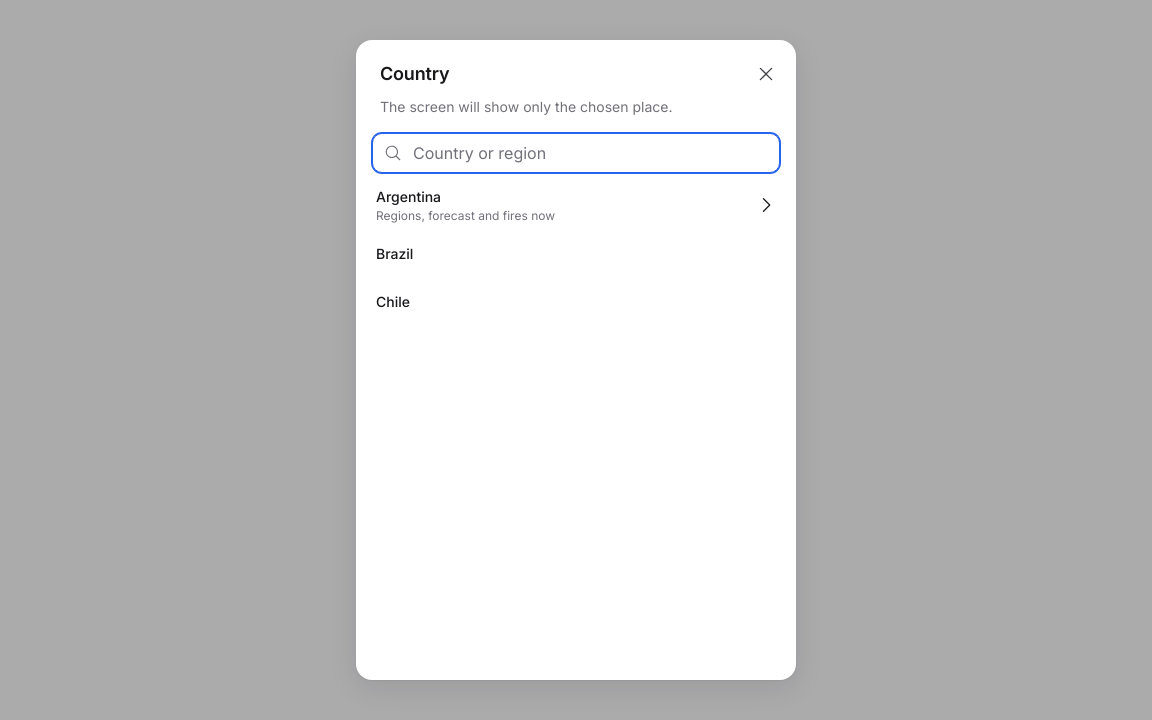
Test: RegionDialog › searches names in every language, without case and accents
The width and height of the screenshot is (1152, 720).
Type "бразил" into the search field labelled "Country or region" at (576, 153), box x1=372 y1=133 x2=780 y2=173
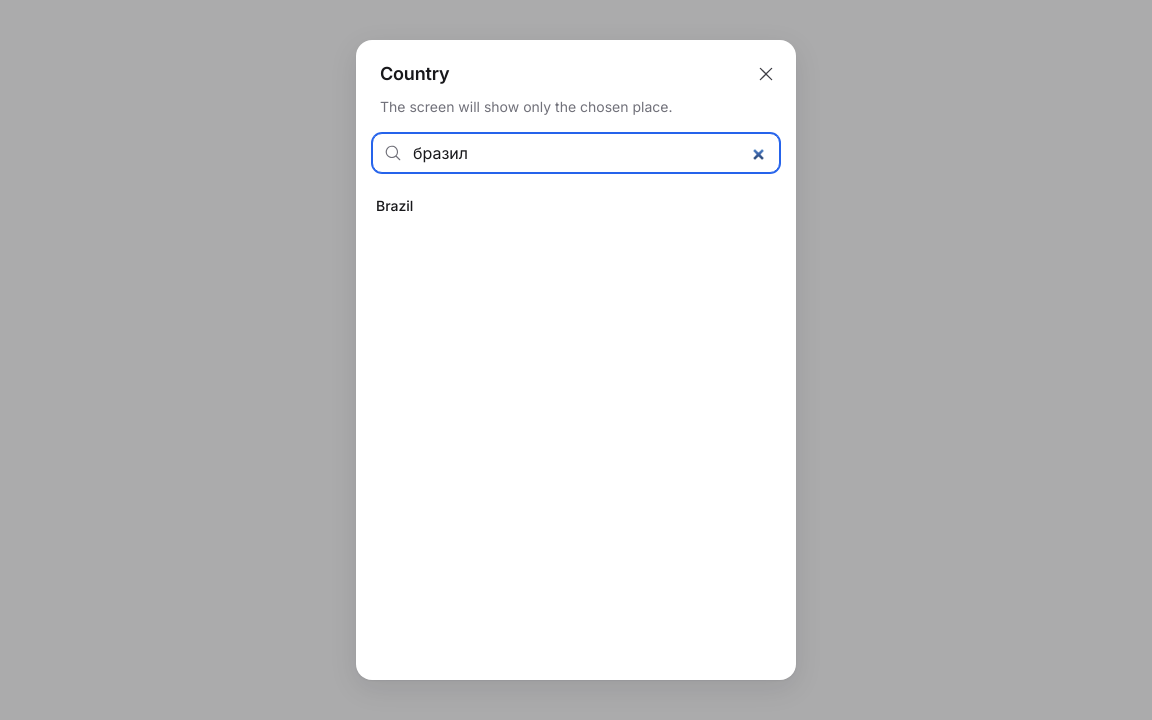
Expected: the option "Brazil" is shown, x1=364 y1=181 x2=788 y2=229
Expected: the option "Chile" is gone
